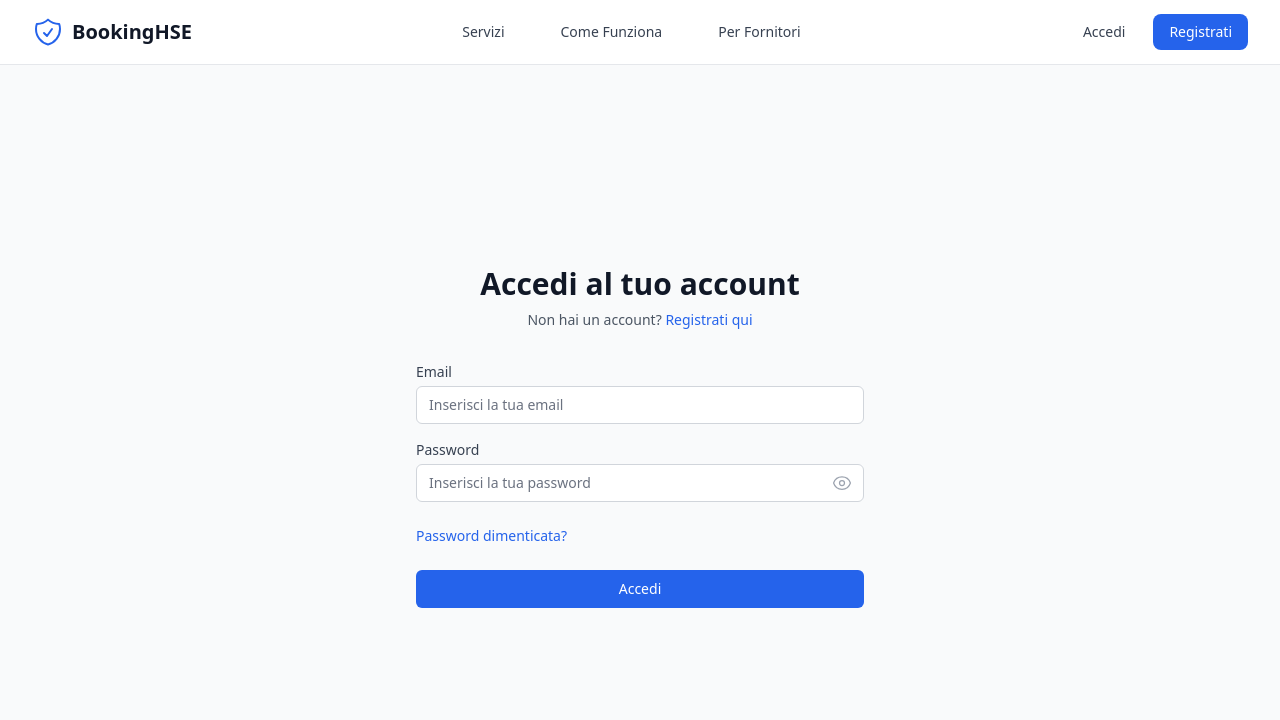
Scenario: LoginPage › displays error message when login fails
This screenshot has width=1280, height=720.
Type "test@example.com" into the field labelled "Email" at (640, 405), box [416,386,864,424]
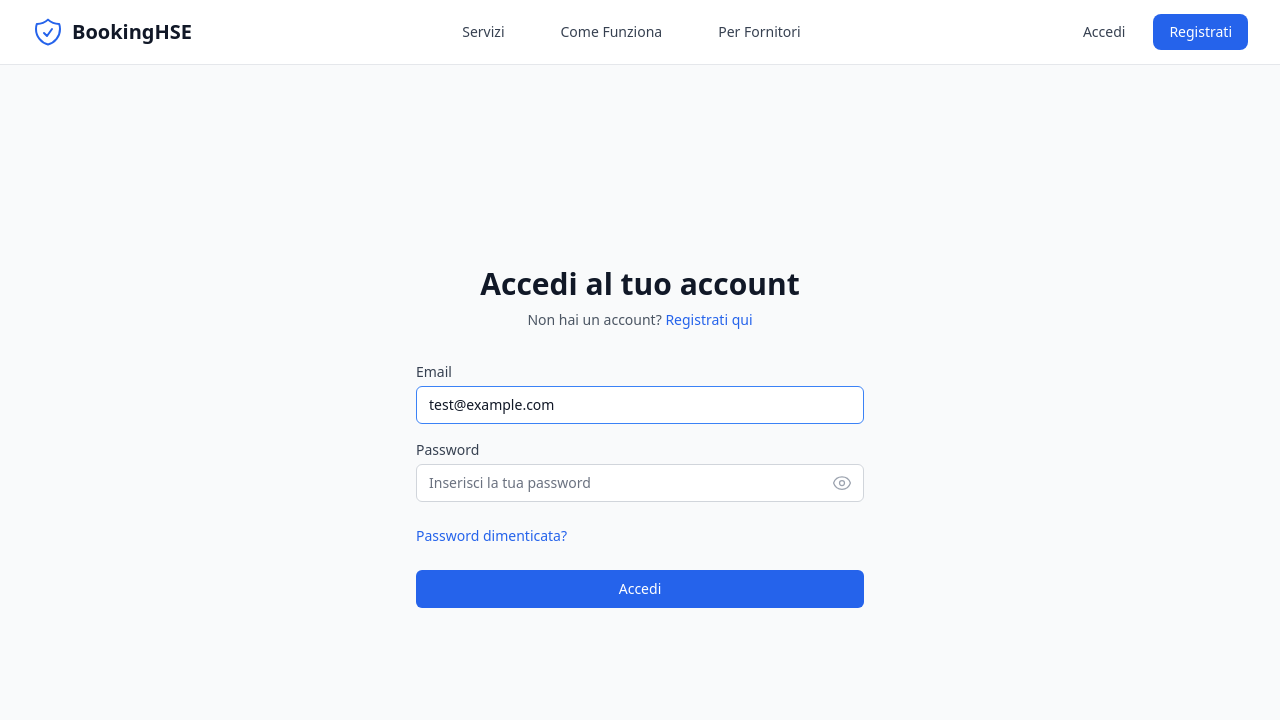
Type "wrongpassword" into the password field labelled "Password" at (640, 483), box [416,464,864,502]
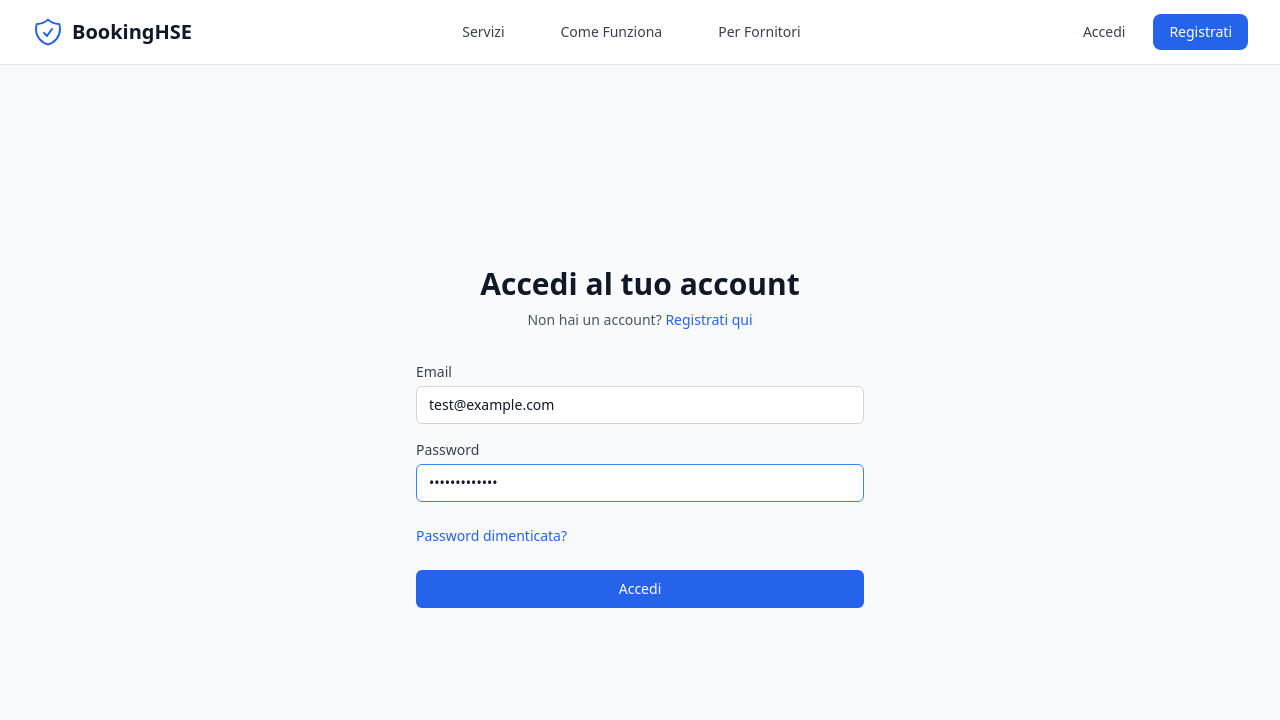
Click the button "Accedi" at (640, 589), box [416,570,864,608]
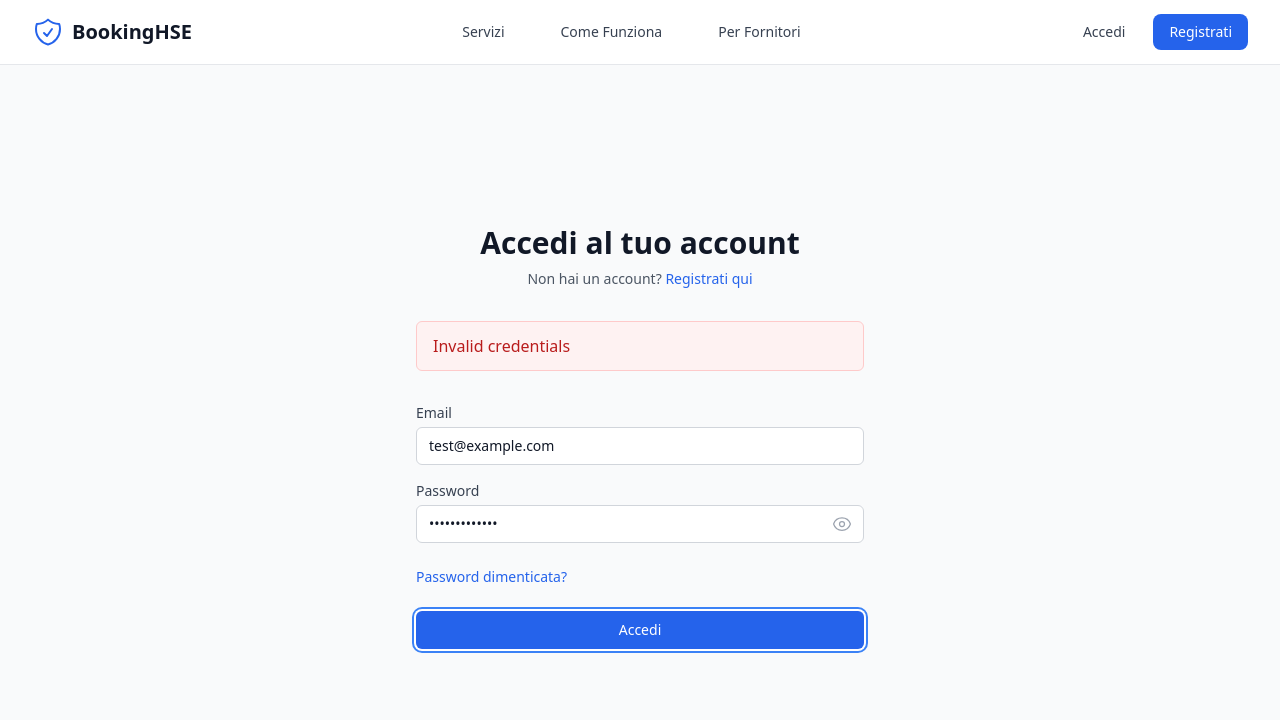
Expected: the text "Invalid credentials" is shown, [416,321,864,371]
